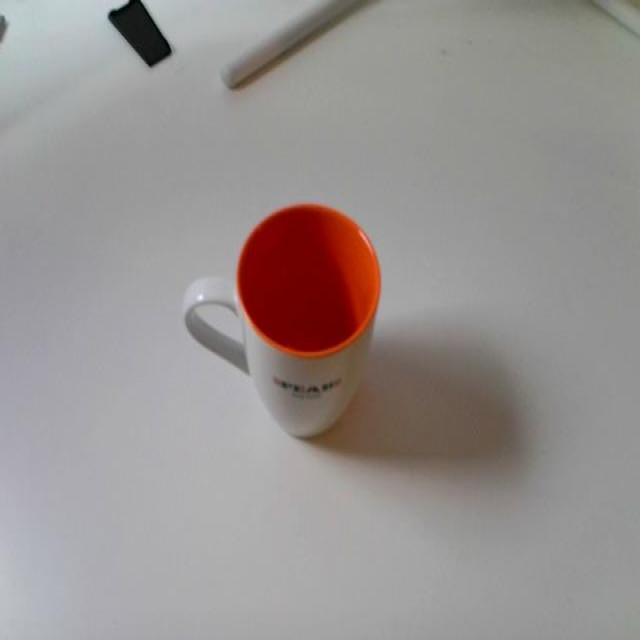cup: (170, 198, 422, 455)
